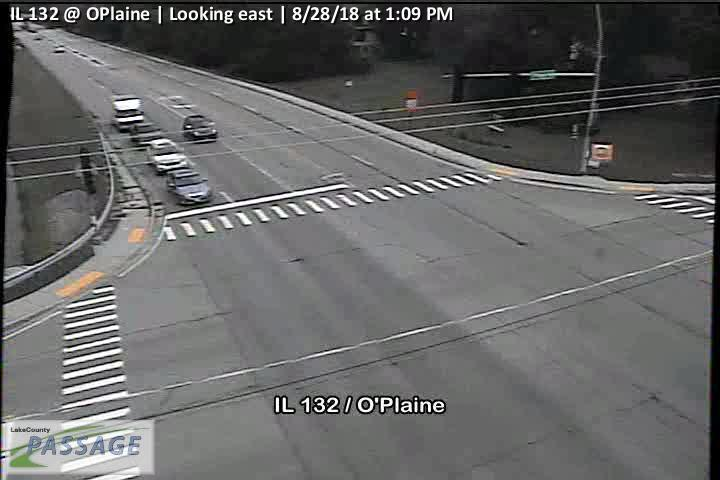SUV: (166, 168, 212, 204), (145, 138, 191, 174), (183, 114, 217, 144)
Sedan: (130, 121, 164, 147)
Truck: (111, 94, 144, 132)
